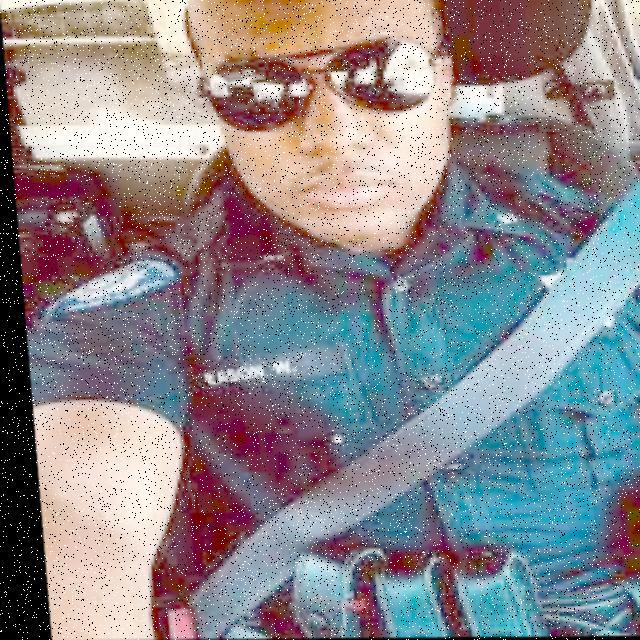seatbelt: (157, 238, 640, 550)
